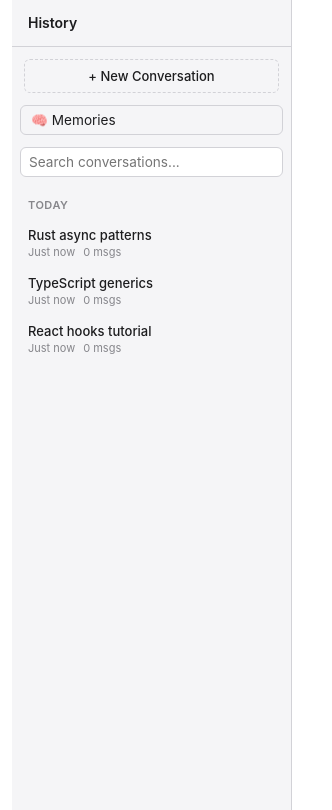
Test case: HistorySidebar search › shows no-results message when nothing matches
Expected: the text "Rust async patterns" is shown, [28,227,152,243]
Type "xyznotexist" into the field with placeholder "Search conversations..." at [152, 162], box [20,147,283,177]
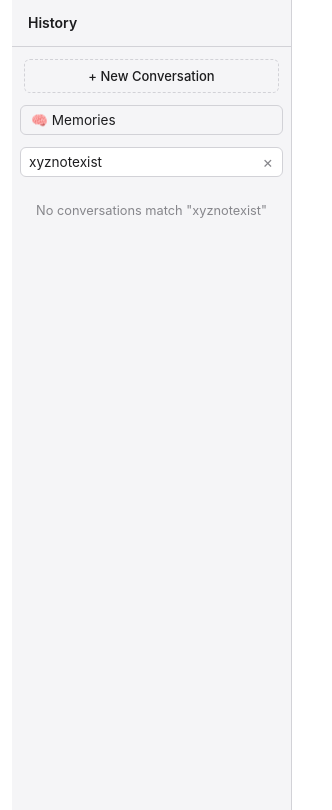
Result: the text "No conversations match \"xyznotexist\"" is shown at [36,203,267,218]
